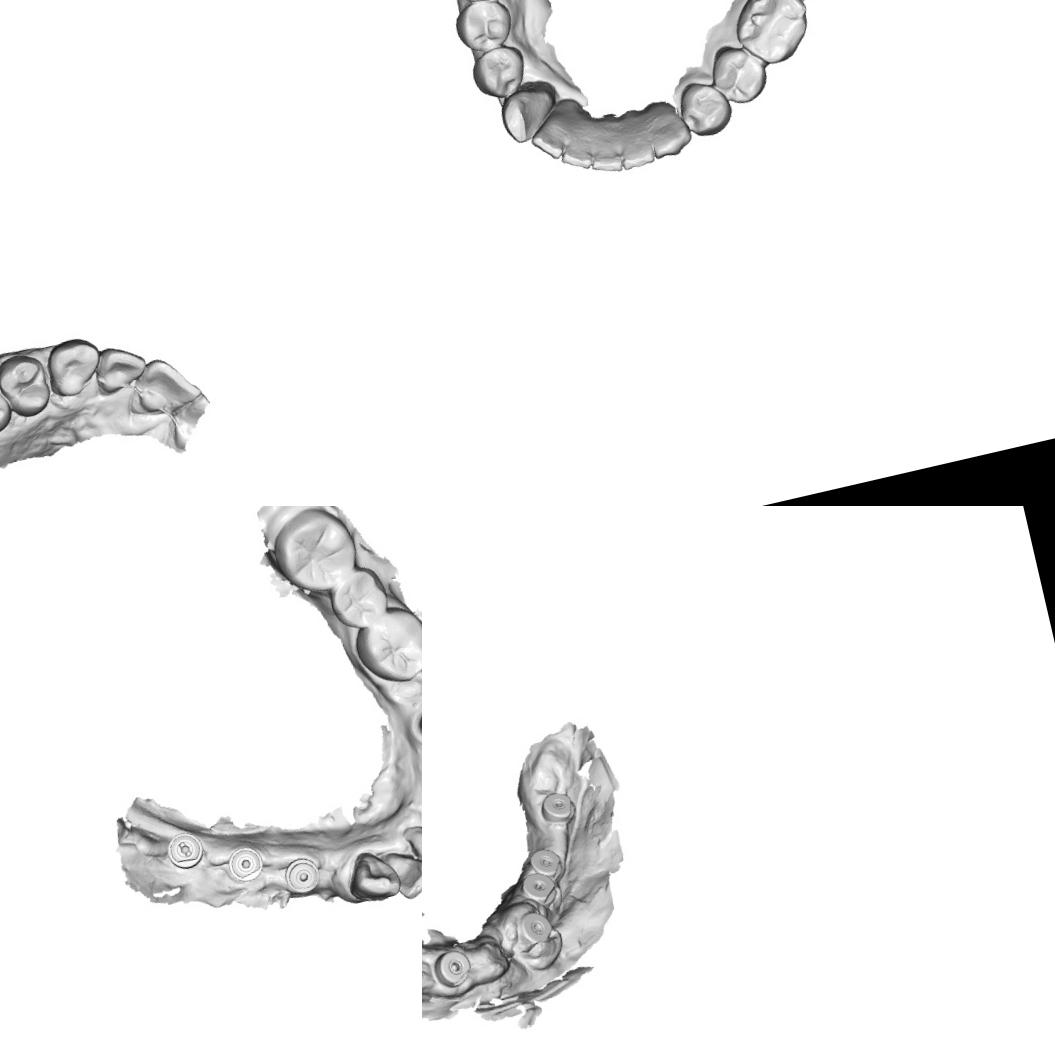canine: (40, 332, 108, 401), (494, 81, 563, 147), (342, 844, 404, 908), (642, 95, 695, 160)
implant: (431, 944, 475, 992), (514, 904, 557, 953), (534, 785, 581, 829), (518, 865, 562, 909), (280, 854, 324, 897), (526, 844, 569, 886), (225, 842, 266, 886)
implant_minus: (162, 827, 208, 873)
incisor: (120, 350, 204, 420), (88, 339, 151, 398), (610, 107, 656, 171), (381, 841, 422, 904), (526, 115, 572, 166), (586, 135, 626, 179), (556, 135, 596, 175), (404, 816, 422, 879)
molar: (265, 506, 364, 603), (347, 599, 422, 691), (726, 0, 817, 72), (324, 562, 394, 634)
premolar: (704, 38, 775, 110), (674, 74, 737, 141), (0, 349, 55, 423), (468, 42, 532, 105), (449, 0, 517, 57), (0, 368, 16, 442)
